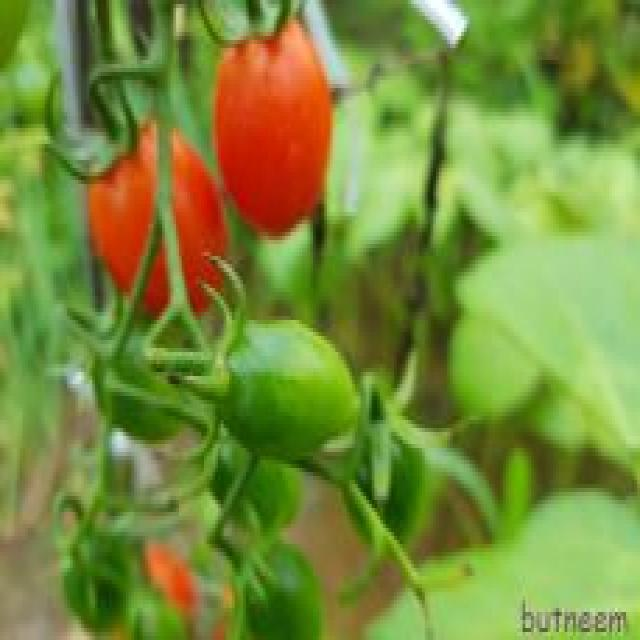level 1: (338, 391, 448, 567), (81, 328, 191, 468), (190, 432, 317, 550), (47, 517, 148, 640), (231, 528, 328, 640)
level 2: (212, 322, 365, 481)
level 6: (68, 112, 231, 332), (213, 24, 368, 255), (139, 523, 254, 632)
